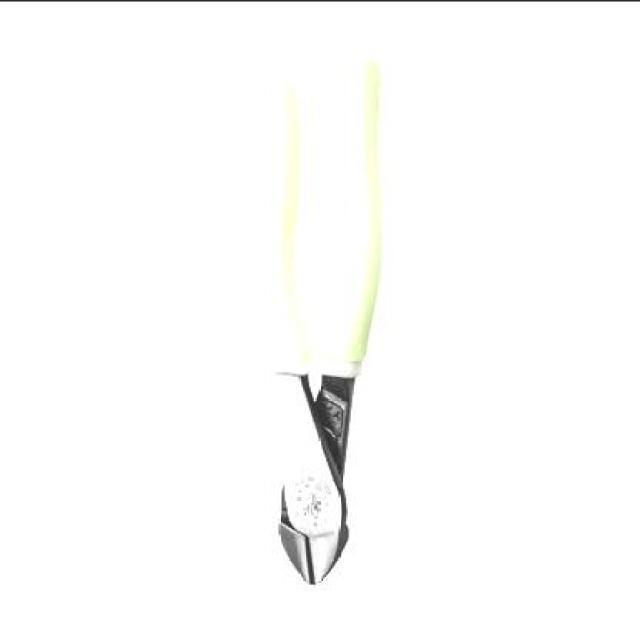pliers: (256, 53, 389, 584)
